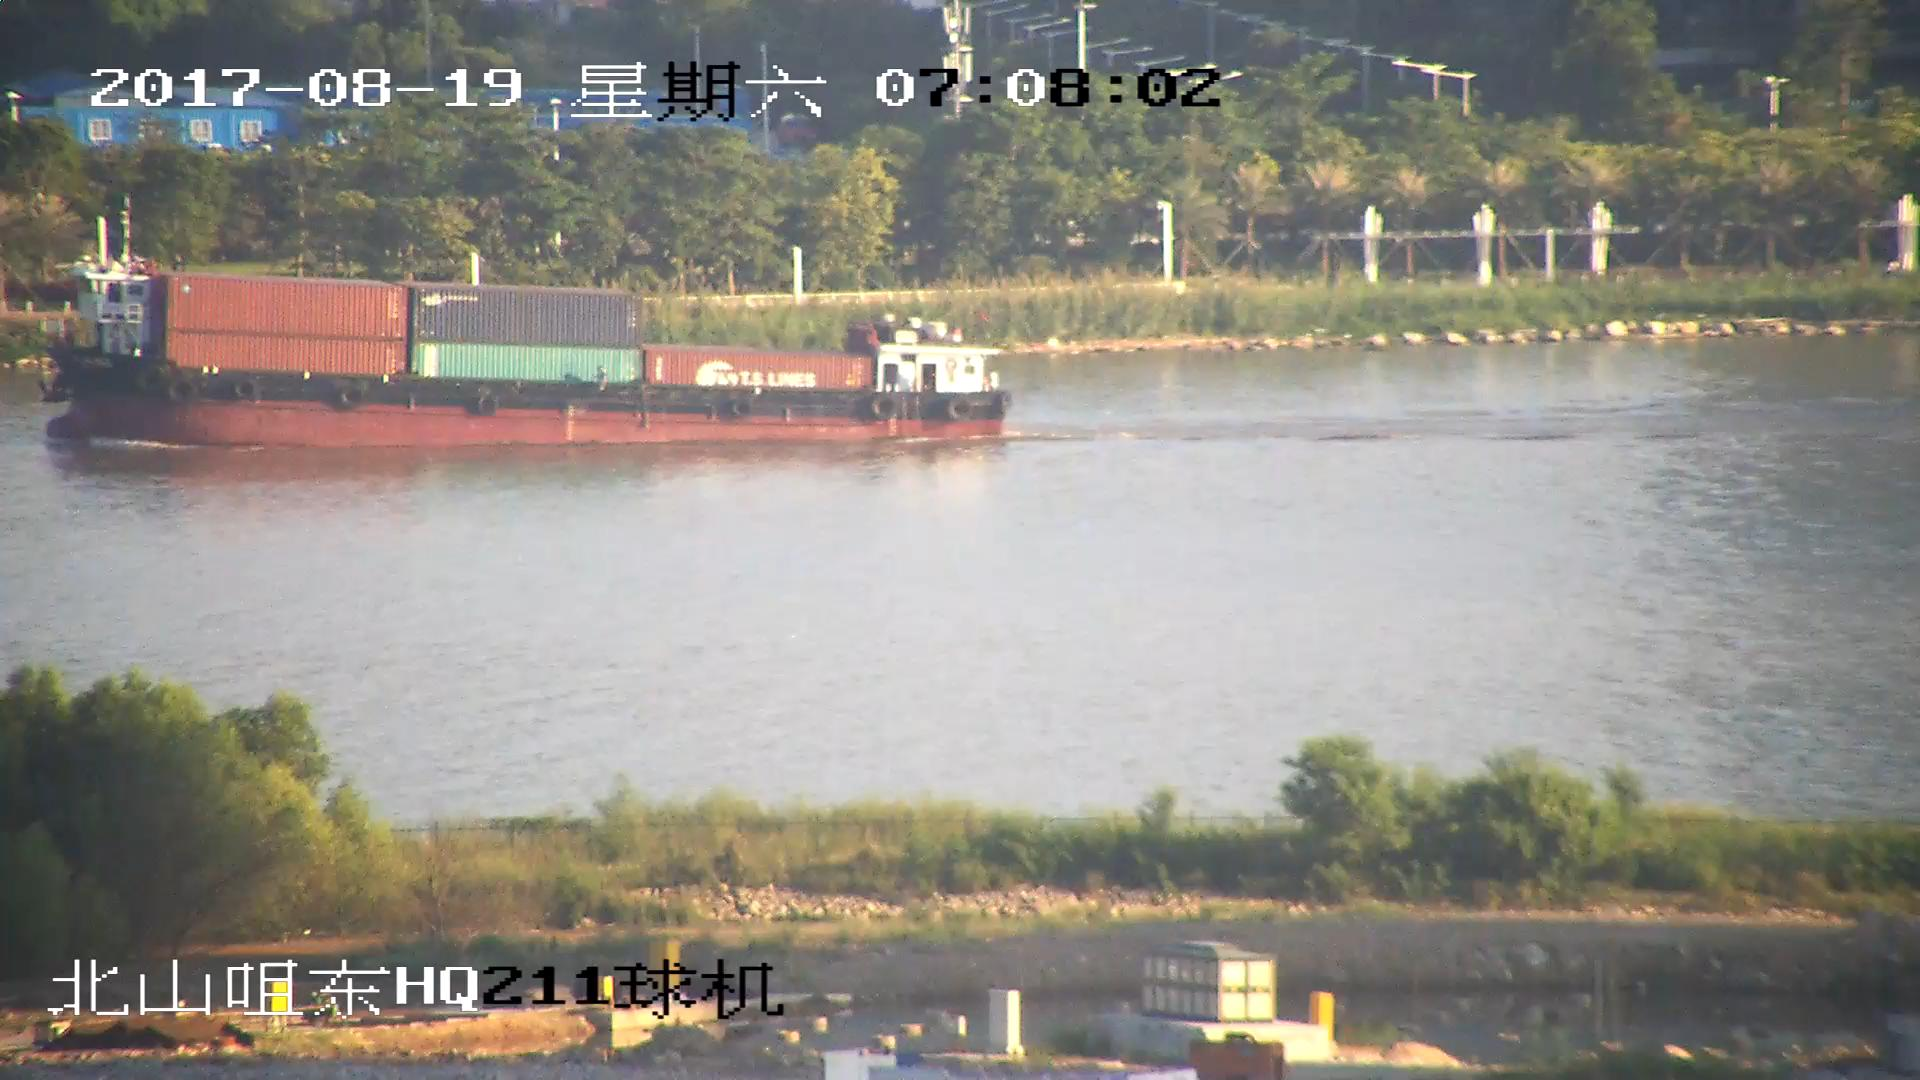container ship: (46, 207, 1010, 444)
